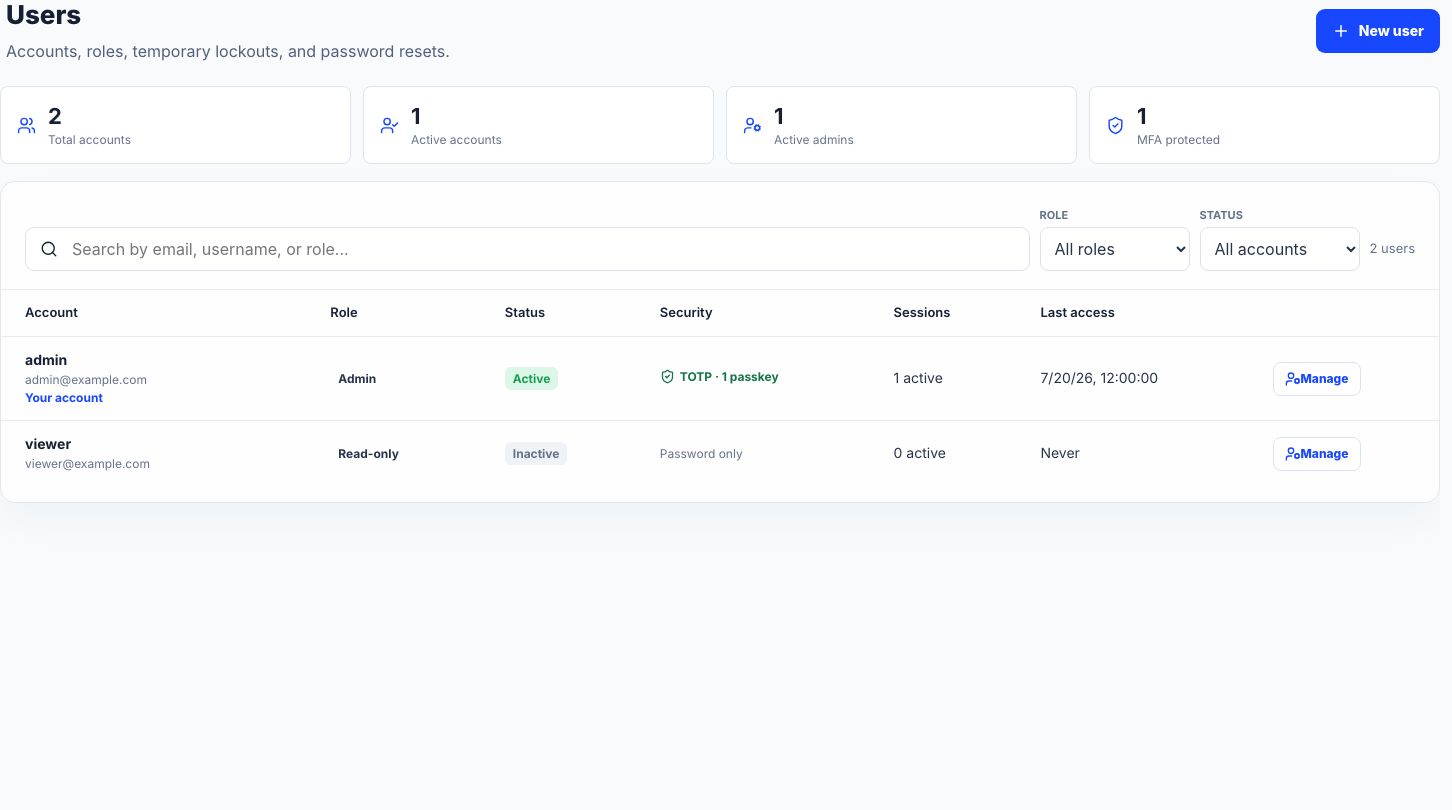
it: UsersView › classifies browsers, platforms, and inactive sessions
This screenshot has width=1452, height=810.
Click the button "Manage" in the row of "viewer@example.com": point(1316, 454) top-left (1272, 436), bottom-right (1360, 470)
(page scrolled)
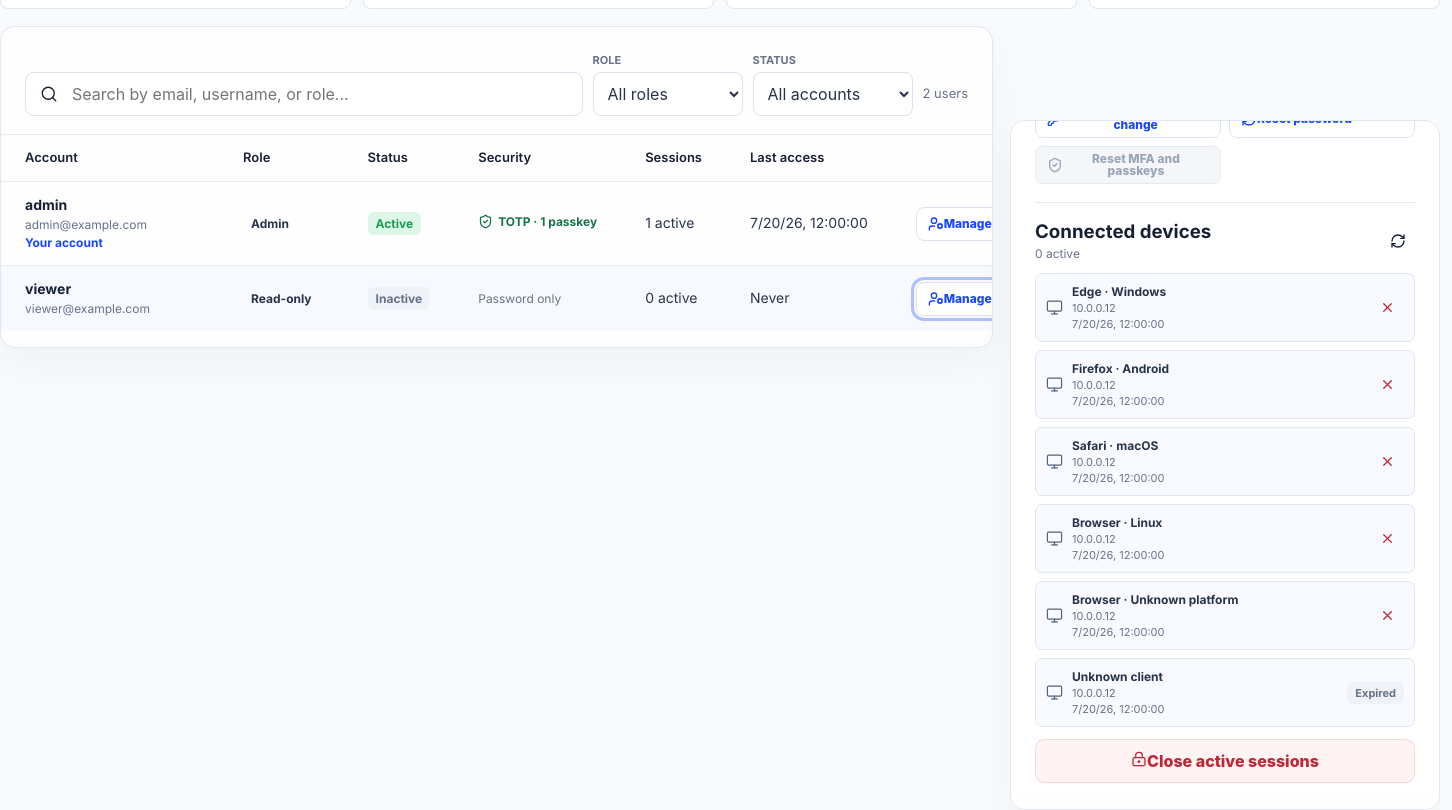
Now the text "Edge · Windows" is shown, box top-left (1072, 284), bottom-right (1166, 299)
Now the text "Firefox · Android" is shown, box top-left (1072, 361), bottom-right (1169, 376)
Now the text "Safari · macOS" is shown, box top-left (1072, 438), bottom-right (1158, 453)
